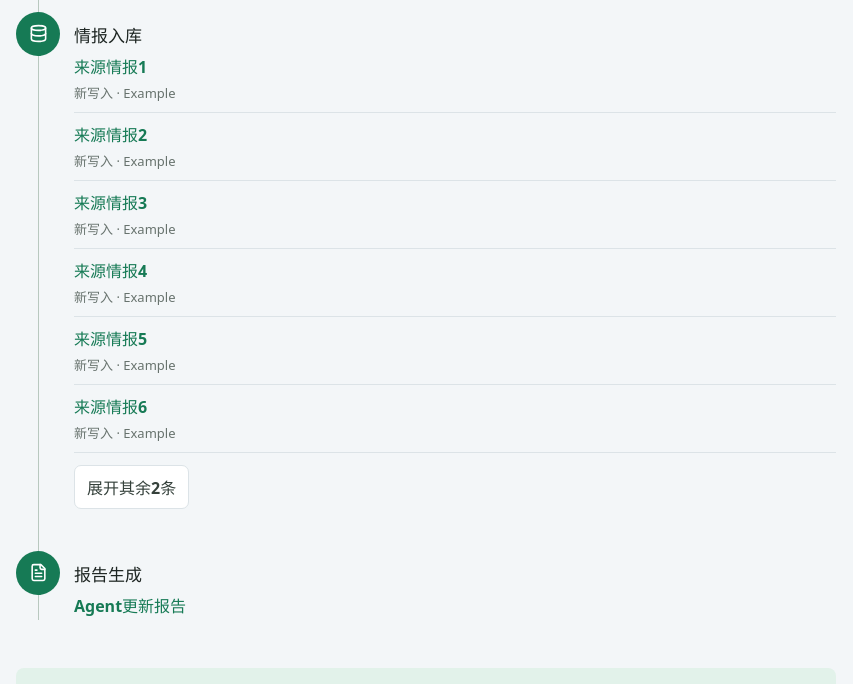
Test case: 来源较多时先限制首屏条目并允许展开
(page scrolled)
Check: the link "来源情报1" is shown, box [74,55,147,79]
Check: the text "来源情报7" is not shown
Click the button "展开其余2条": (132, 487) [74,465,189,509]
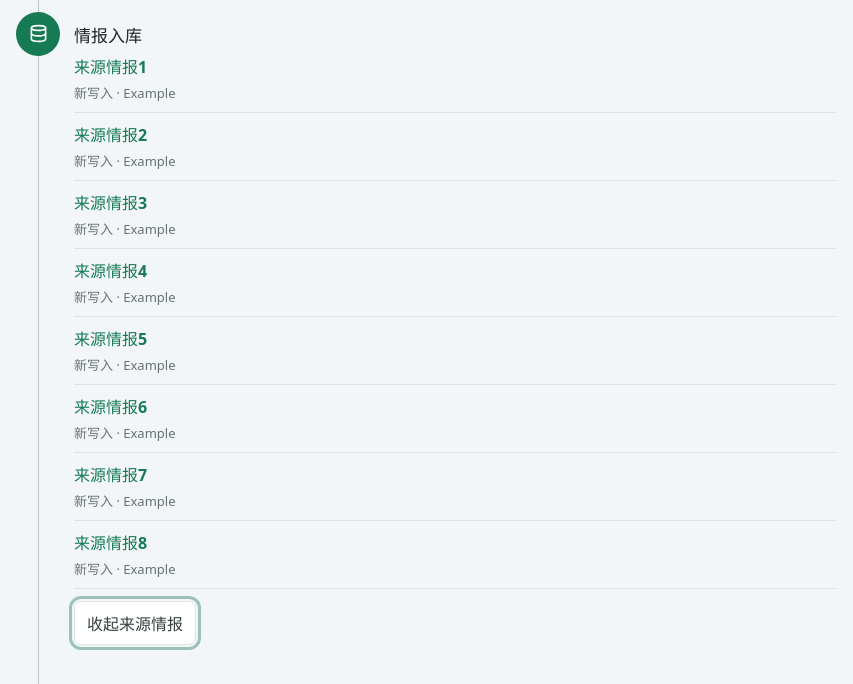
Check: the link "来源情报8" is shown, box [74,531,147,555]
Check: the button "收起来源情报" is expanded, box [74,601,196,645]
